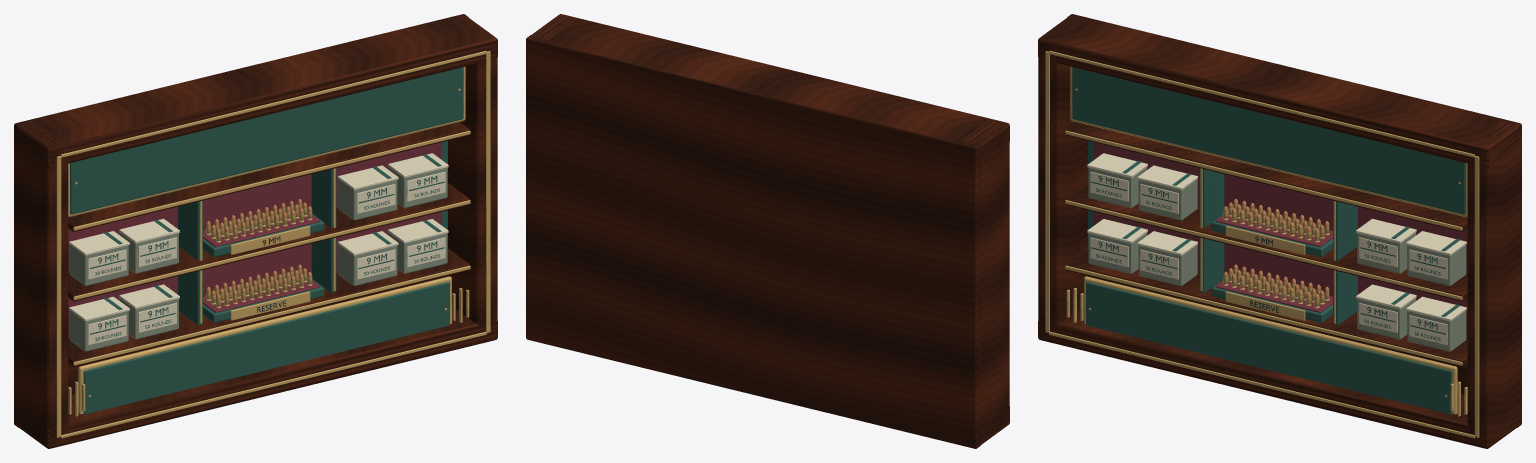
File: pistol-ammo-display.glb
The picture shows the model from 3 angles, left to right: view 1: azimuth 30°, elevation 25°; view 2: azimuth 150°, elevation 25°; view 3: azimuth 330°, elevation 25°; orthographic projection.
Parts seen in each view (by area): view 1: 01 Walnut cabinet — original packed grain, 02 Racing green enamel, 04 Brushed antique brass, 05 Ivory lettering and carton paper, 03 Oxblood felt liner, 06 Reserve ammunition carton, 07 Copper cartridge jacket; view 2: 01 Walnut cabinet — original packed grain; view 3: 01 Walnut cabinet — original packed grain, 02 Racing green enamel, 04 Brushed antique brass, 05 Ivory lettering and carton paper, 03 Oxblood felt liner, 06 Reserve ammunition carton, 07 Copper cartridge jacket.
Boxes of the visible parts, x1=… form: 01 Walnut cabinet — original packed grain: x1=14, y1=14, x2=497, y2=448; 02 Racing green enamel: x1=70, y1=67, x2=463, y2=414; 04 Brushed antique brass: x1=56, y1=51, x2=490, y2=438; 05 Ivory lettering and carton paper: x1=69, y1=153, x2=448, y2=345; 03 Oxblood felt liner: x1=68, y1=142, x2=441, y2=338; 06 Reserve ammunition carton: x1=69, y1=167, x2=447, y2=351; 07 Copper cartridge jacket: x1=206, y1=199, x2=312, y2=299; 01 Walnut cabinet — original packed grain: x1=526, y1=14, x2=1009, y2=448; 01 Walnut cabinet — original packed grain: x1=1038, y1=14, x2=1521, y2=448; 02 Racing green enamel: x1=1072, y1=67, x2=1465, y2=414; 04 Brushed antique brass: x1=1045, y1=51, x2=1479, y2=438; 05 Ivory lettering and carton paper: x1=1087, y1=153, x2=1466, y2=345; 03 Oxblood felt liner: x1=1094, y1=142, x2=1467, y2=338; 06 Reserve ammunition carton: x1=1088, y1=167, x2=1466, y2=351; 07 Copper cartridge jacket: x1=1223, y1=198, x2=1329, y2=299.
Bounding box in the file's own units: 2.5 × 1.6 × 0.339.
8 materials, 1 textured.
